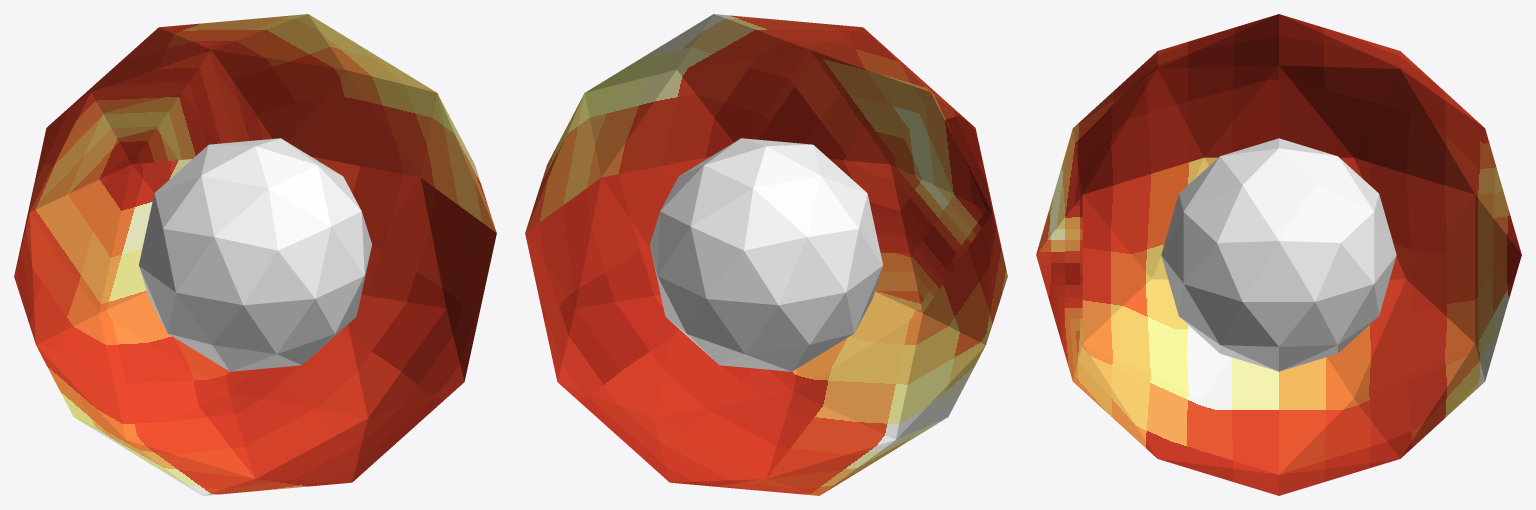
Rendered from ball.glb.
The picture shows the model from 3 angles, left to right: view 1: azimuth 30°, elevation 25°; view 2: azimuth 150°, elevation 25°; view 3: azimuth 270°, elevation 25°; orthographic projection.
Parts seen in each view (by area): view 1: ball-fire; view 2: ball-fire; view 3: ball-fire.
Boxes of the visible parts, box(x1,y1,x2,y2) form: ball-fire: box(14, 14, 496, 495); ball-fire: box(525, 14, 1007, 495); ball-fire: box(1036, 14, 1521, 495).
Size of the model in its own units: 1.96 by 2.06 by 2.06.
Materials: 2 (1 with a texture image).
